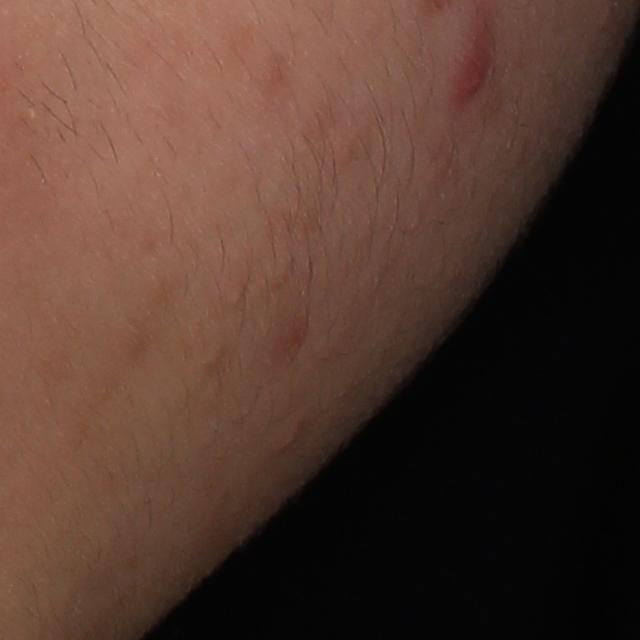papule: (458, 39, 491, 111)
